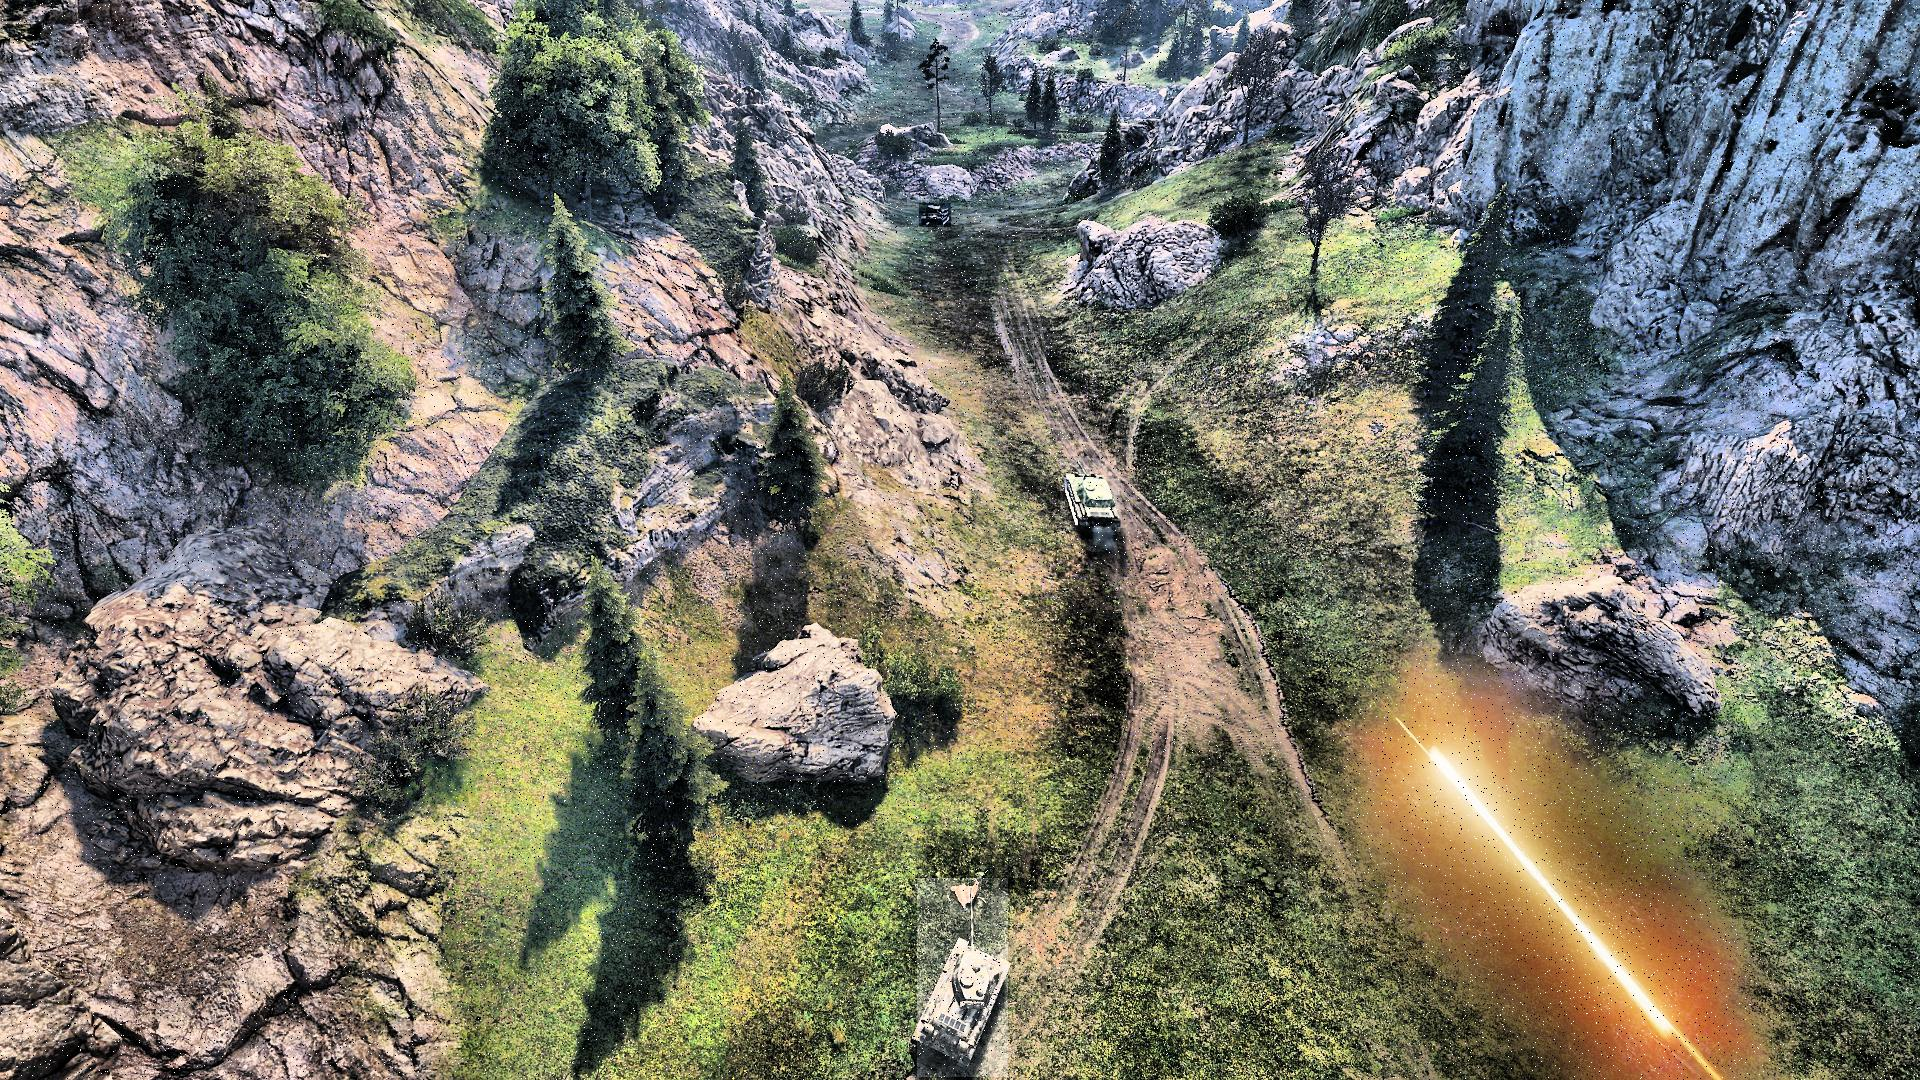military-vehicle: (916, 878, 1009, 1077), (1060, 458, 1120, 531), (920, 204, 952, 228)
